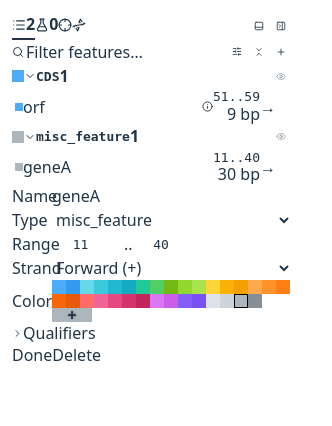
Scenario: FeatureSidebar editing and keyboard › commits a range only when it is finished, as one step, and refuses a backwards one
Replace the text in the number field named "End" with "4": {"x": 169, "y": 244} [133,237,205,252]
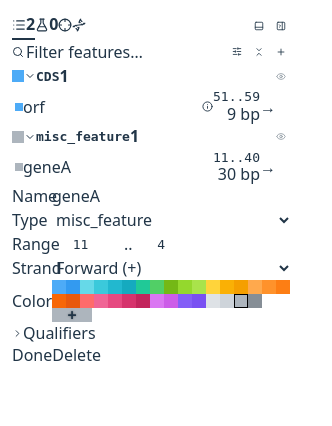
Replace the text in the number field named "End" with "45": {"x": 169, "y": 244} [133,237,205,252]
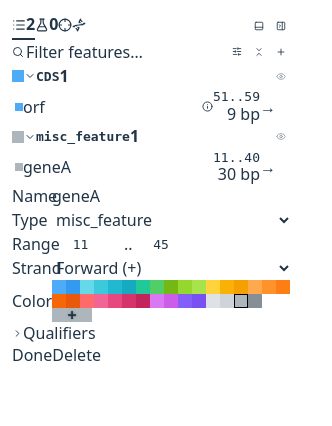
Press Enter in the number field named "End", box [133,237,205,252]
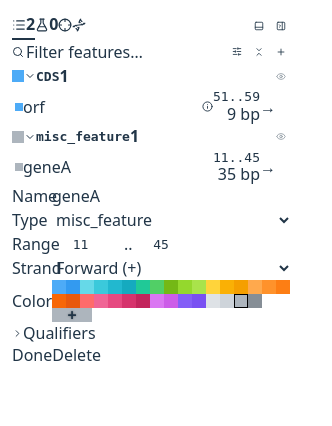
Replace the text in the number field named "End" with "5": {"x": 169, "y": 244} [133,237,205,252]
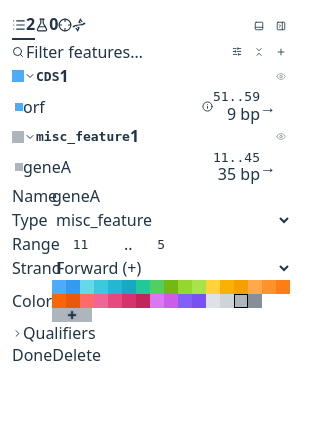
Press Enter in the number field named "End", box [133,237,205,252]
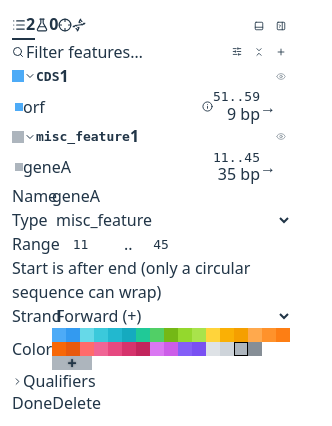
Now the message shows "after end", box [12,257,250,303]
